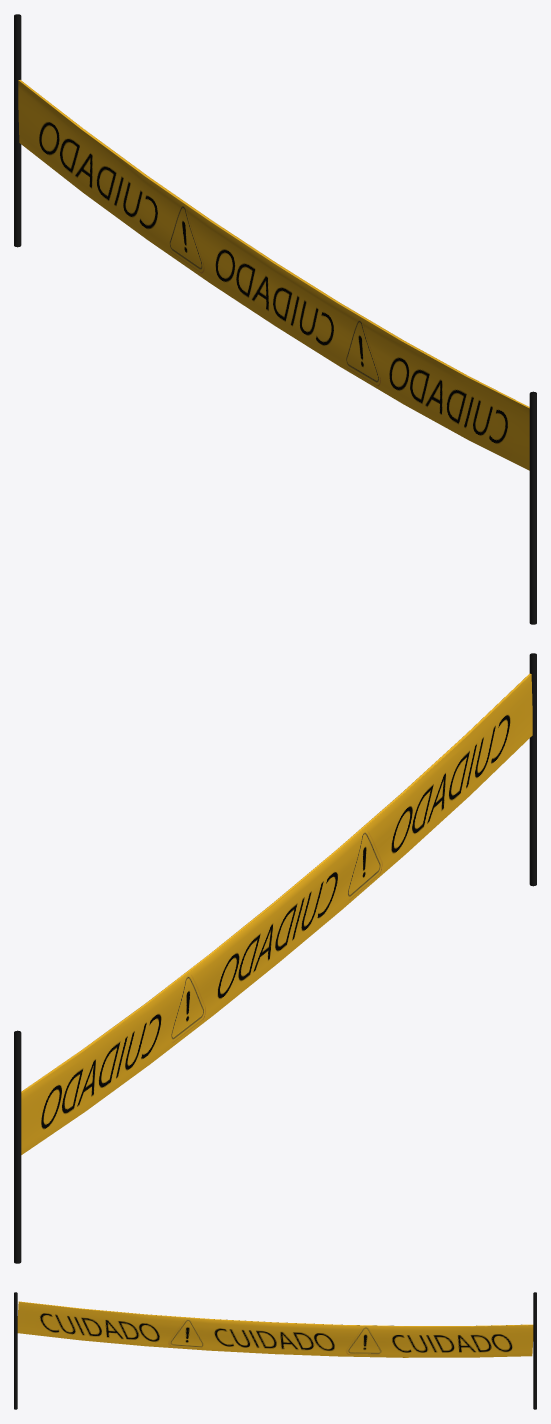
Rendered from aviso.obj.
3 views of the same model, one above another, from view 1: azimuth 30°, elevation 25°; view 2: azimuth 150°, elevation 25°; view 3: azimuth 270°, elevation 25° (orthographic). The views are drawn at different scales.
Visible parts, largest first — view 1: Cube, Cylinder.001; view 2: Cube, Cylinder.001; view 3: Cube, Cylinder.001.
Boxes of the visible parts, left/top/right/bottom form: Cube: left=18, top=79, right=529, bottom=470; Cylinder.001: left=14, top=14, right=536, bottom=624; Cube: left=21, top=673, right=532, bottom=1154; Cylinder.001: left=14, top=653, right=536, bottom=1263; Cube: left=17, top=1301, right=533, bottom=1357; Cylinder.001: left=14, top=1292, right=536, bottom=1409.
Bounding box in the file's own units: 0.0423 × 1.49 × 6.11.
